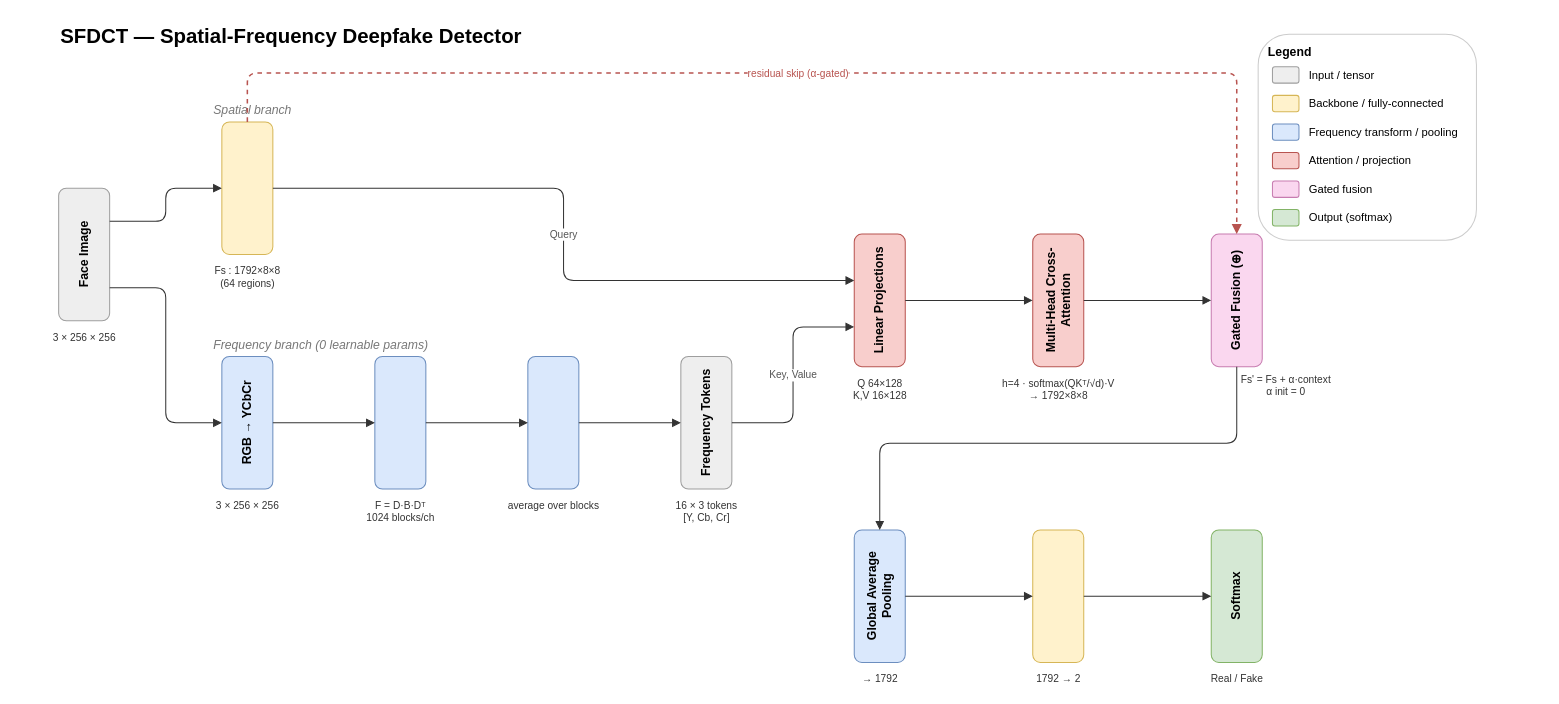
Some shapes in this 1559 by 704 pixel diagram are drawn without their labels. Each missing label, with the box of its shape:
8×8 Block DCT: (374, 355, 426, 489)
EfficientNet-B4 Backbone: (221, 121, 273, 254)
Fully Connected: (1032, 529, 1084, 662)
log|DCT| + Zigzag → 16 bands: (527, 355, 579, 489)
